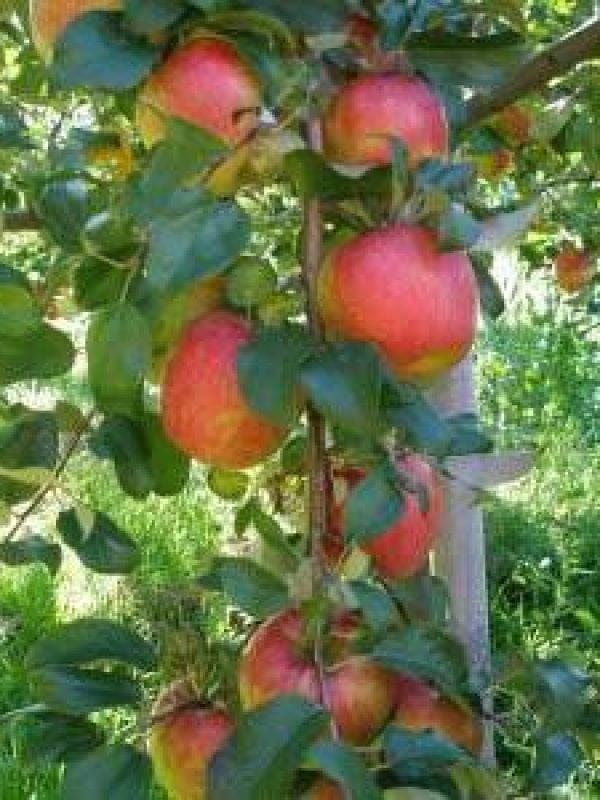apple: (319, 222, 476, 382), (159, 310, 299, 472), (239, 599, 393, 746), (137, 35, 267, 158), (321, 71, 449, 172)
